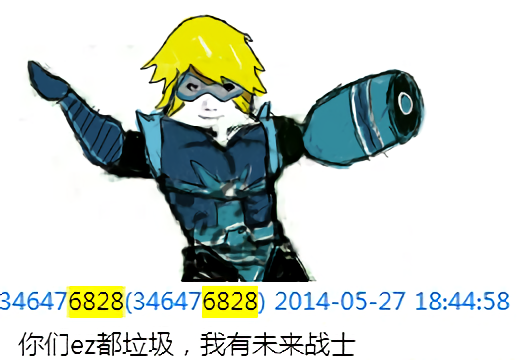dragon: (186, 78, 238, 126)
